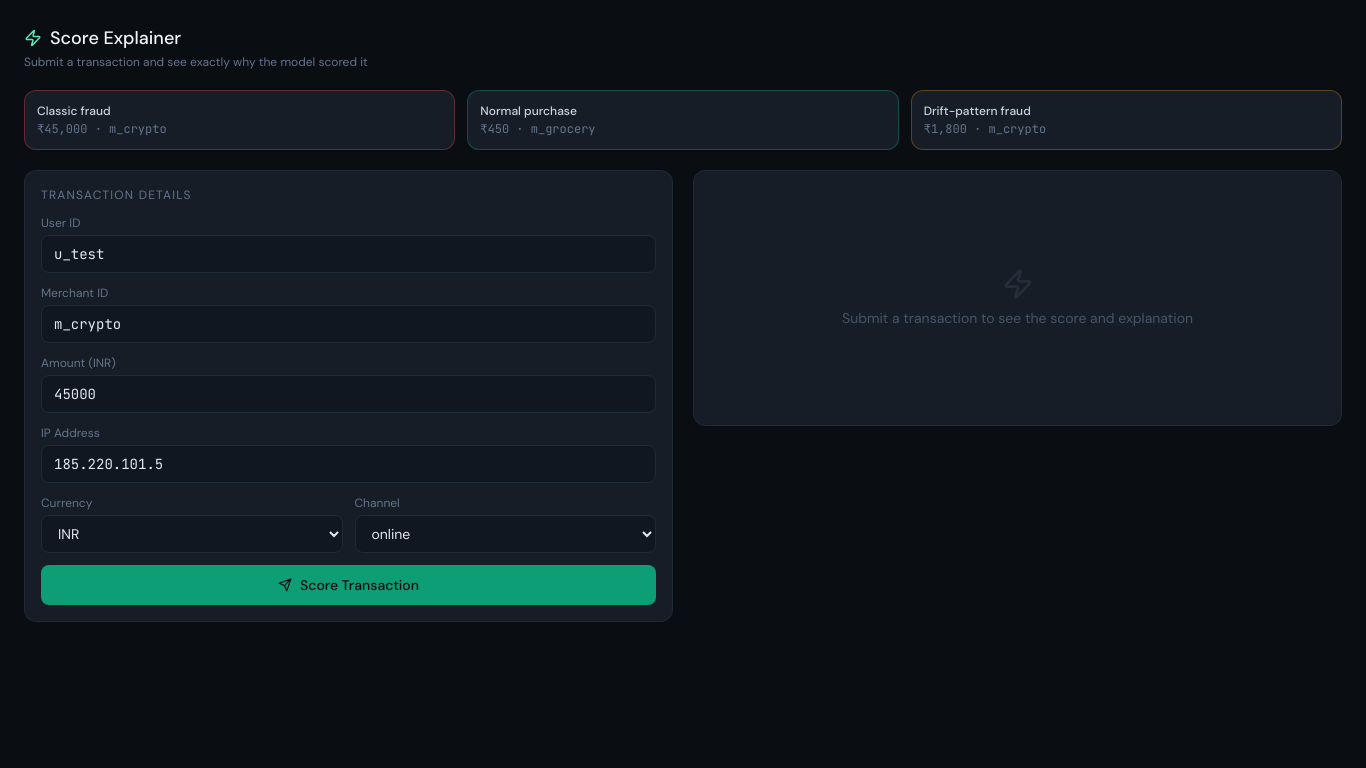
Test: ScoreExplainer › shows error message when API throws
The image size is (1366, 768).
Click the button "Score Transaction" at (348, 585), box top-left (41, 565), bottom-right (656, 605)
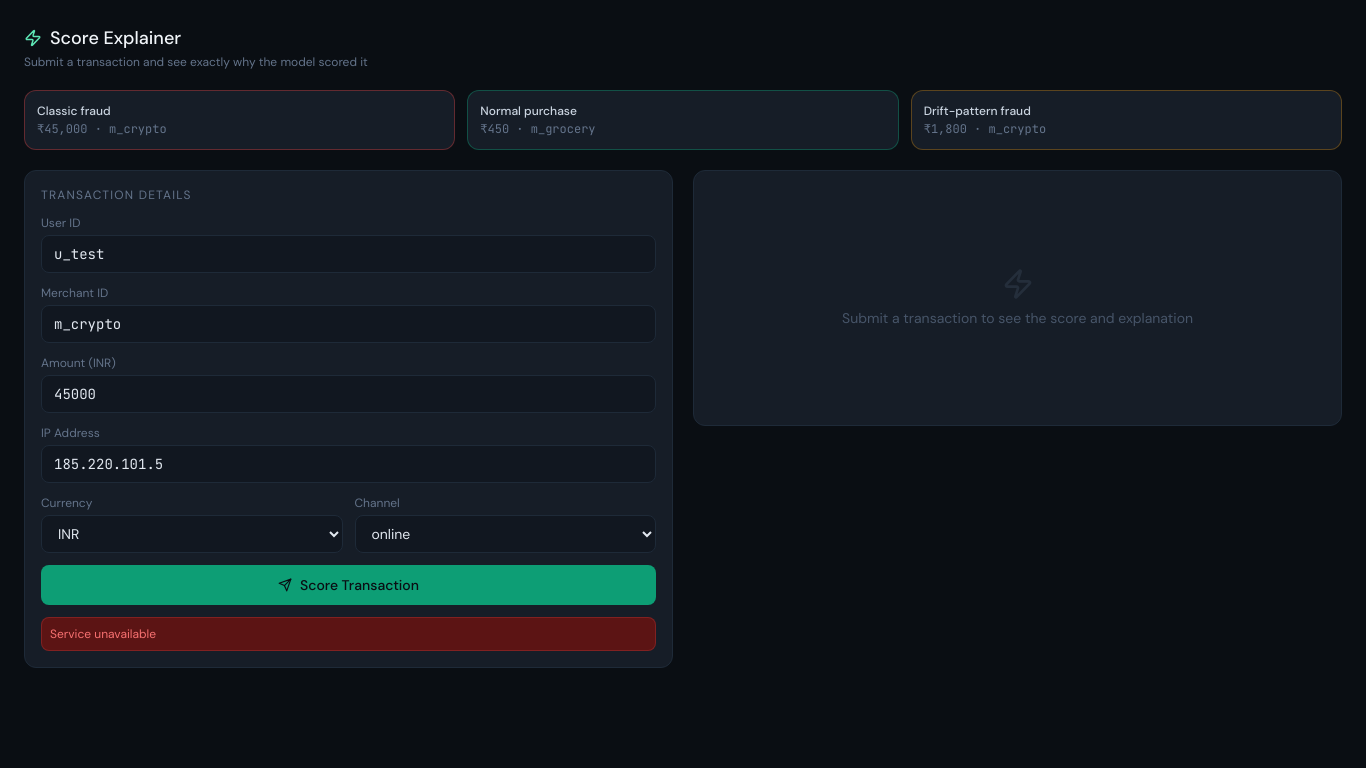
expect the text "Service unavailable" is shown: met, box top-left (41, 617), bottom-right (656, 651)
